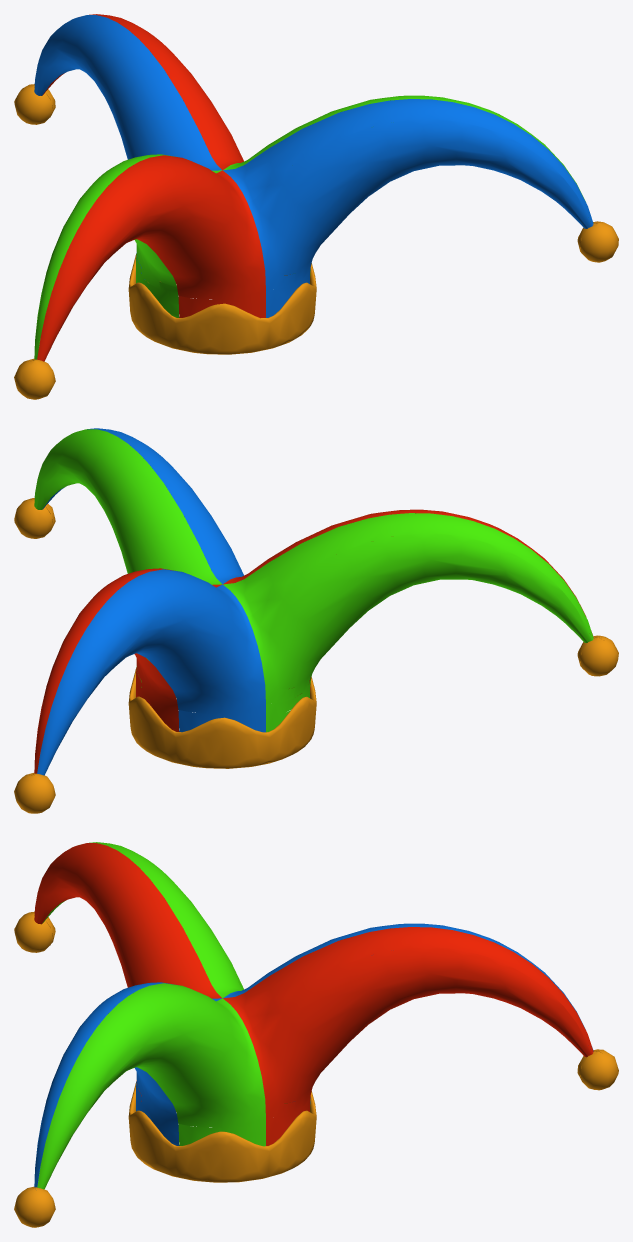
The model's file is jester_hat.glb.
The picture shows the model from 3 angles, top to bottom: view 1: azimuth 30°, elevation 25°; view 2: azimuth 150°, elevation 25°; view 3: azimuth 270°, elevation 25°; orthographic projection.
Visible parts, largest first — view 1: Object_6, Object_4, Object_8, Object_5, Object_14, Object_10, Object_12; view 2: Object_5, Object_6, Object_8, Object_4, Object_12, Object_14, Object_10; view 3: Object_4, Object_5, Object_8, Object_6, Object_10, Object_12, Object_14.
Part boxes in pixels (left/top/right/bottom): Object_6: left=34, top=15, right=593, bottom=317; Object_4: left=37, top=14, right=265, bottom=361; Object_8: left=128, top=254, right=316, bottom=354; Object_5: left=34, top=95, right=590, bottom=359; Object_14: left=14, top=358, right=55, bottom=399; Object_10: left=577, top=221, right=618, bottom=262; Object_12: left=14, top=84, right=55, bottom=124; Object_5: left=34, top=429, right=593, bottom=732; Object_6: left=37, top=428, right=265, bottom=775; Object_8: left=128, top=668, right=316, bottom=768; Object_4: left=34, top=509, right=593, bottom=773; Object_12: left=14, top=773, right=55, bottom=813; Object_14: left=577, top=635, right=618, bottom=676; Object_10: left=14, top=498, right=55, bottom=538; Object_4: left=34, top=843, right=593, bottom=1145; Object_5: left=37, top=842, right=265, bottom=1189; Object_8: left=128, top=1082, right=316, bottom=1182; Object_6: left=34, top=923, right=593, bottom=1187; Object_10: left=14, top=1186, right=55, bottom=1227; Object_12: left=577, top=1049, right=618, bottom=1090; Object_14: left=14, top=911, right=55, bottom=952.
Bounding box in the file's own units: 11.14 × 3.87 × 9.75.
